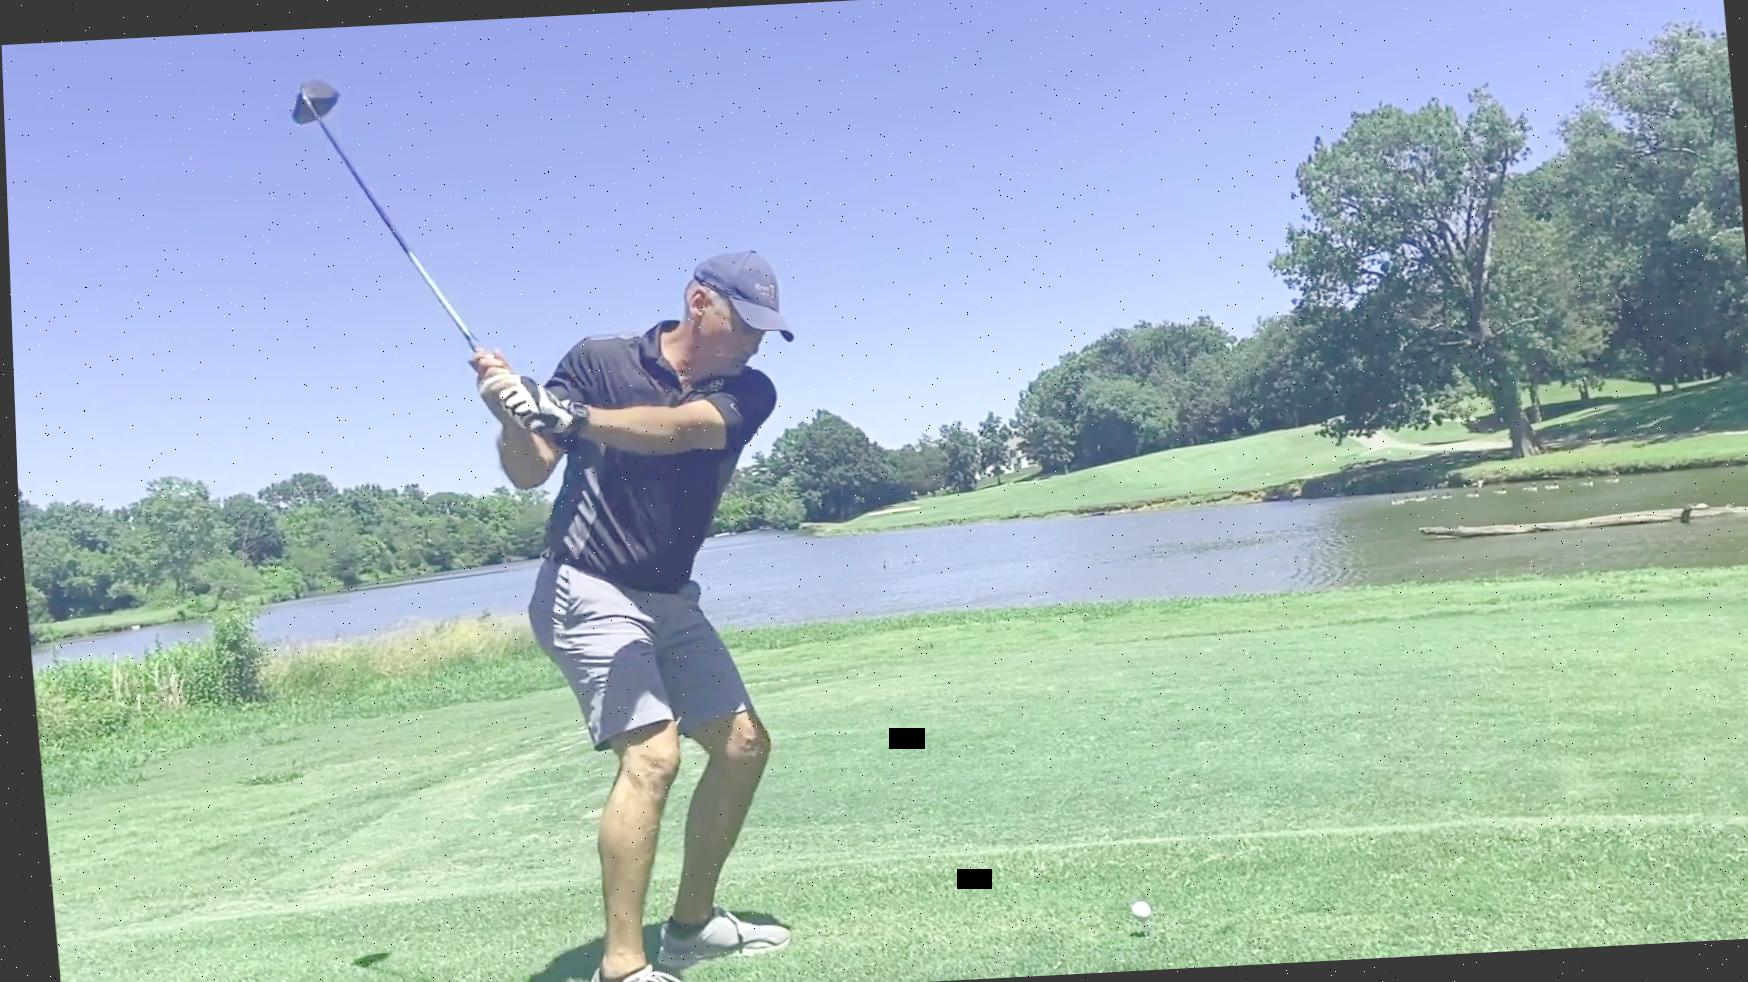ClubHead: (283, 73, 347, 133)
GolfBall: (1121, 899, 1144, 921)
